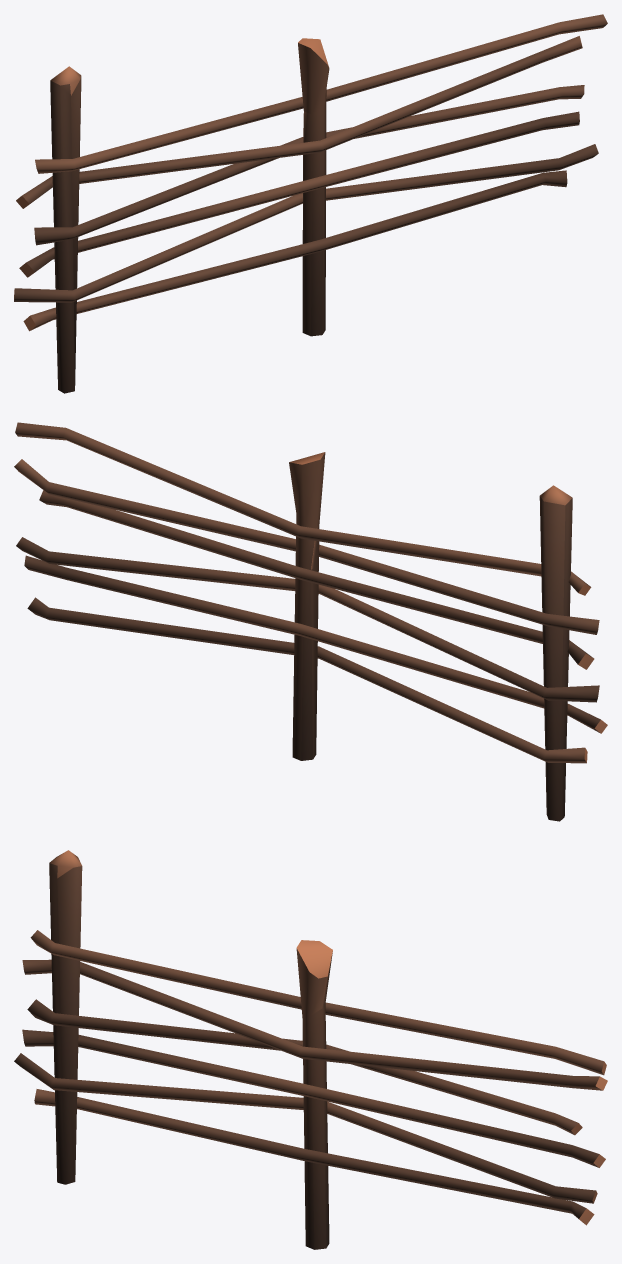
The model's file is Fence_3C_Part_1.fbx.
3 views of the same model, one above another, from view 1: azimuth 30°, elevation 25°; view 2: azimuth 150°, elevation 25°; view 3: azimuth 330°, elevation 25° (orthographic). The views are drawn at different scales.
Parts seen in each view (by area): view 1: Fence_3C_Part_1; view 2: Fence_3C_Part_1; view 3: Fence_3C_Part_1.
Boxes of the visible parts, x1,y1,x2,y2 form: Fence_3C_Part_1: (14, 14, 607, 393); Fence_3C_Part_1: (14, 422, 607, 821); Fence_3C_Part_1: (14, 850, 607, 1249).
Bounding box in the file's own units: 242 × 128 × 20.87.
